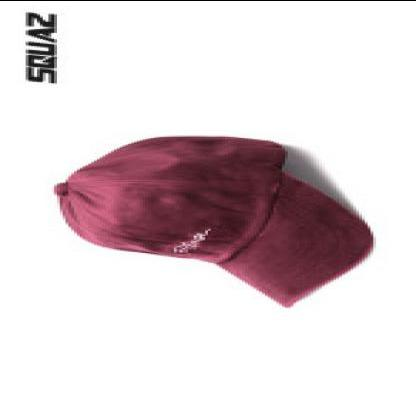cap: (43, 130, 376, 314)
